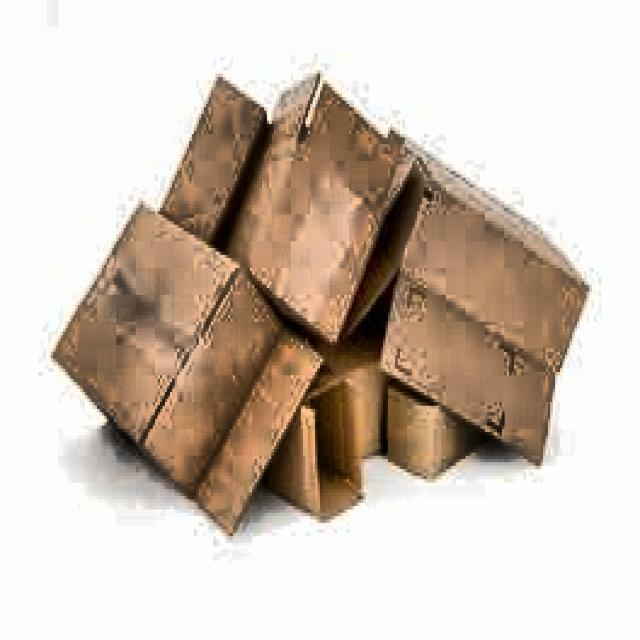cardboard: (48, 67, 590, 533)
